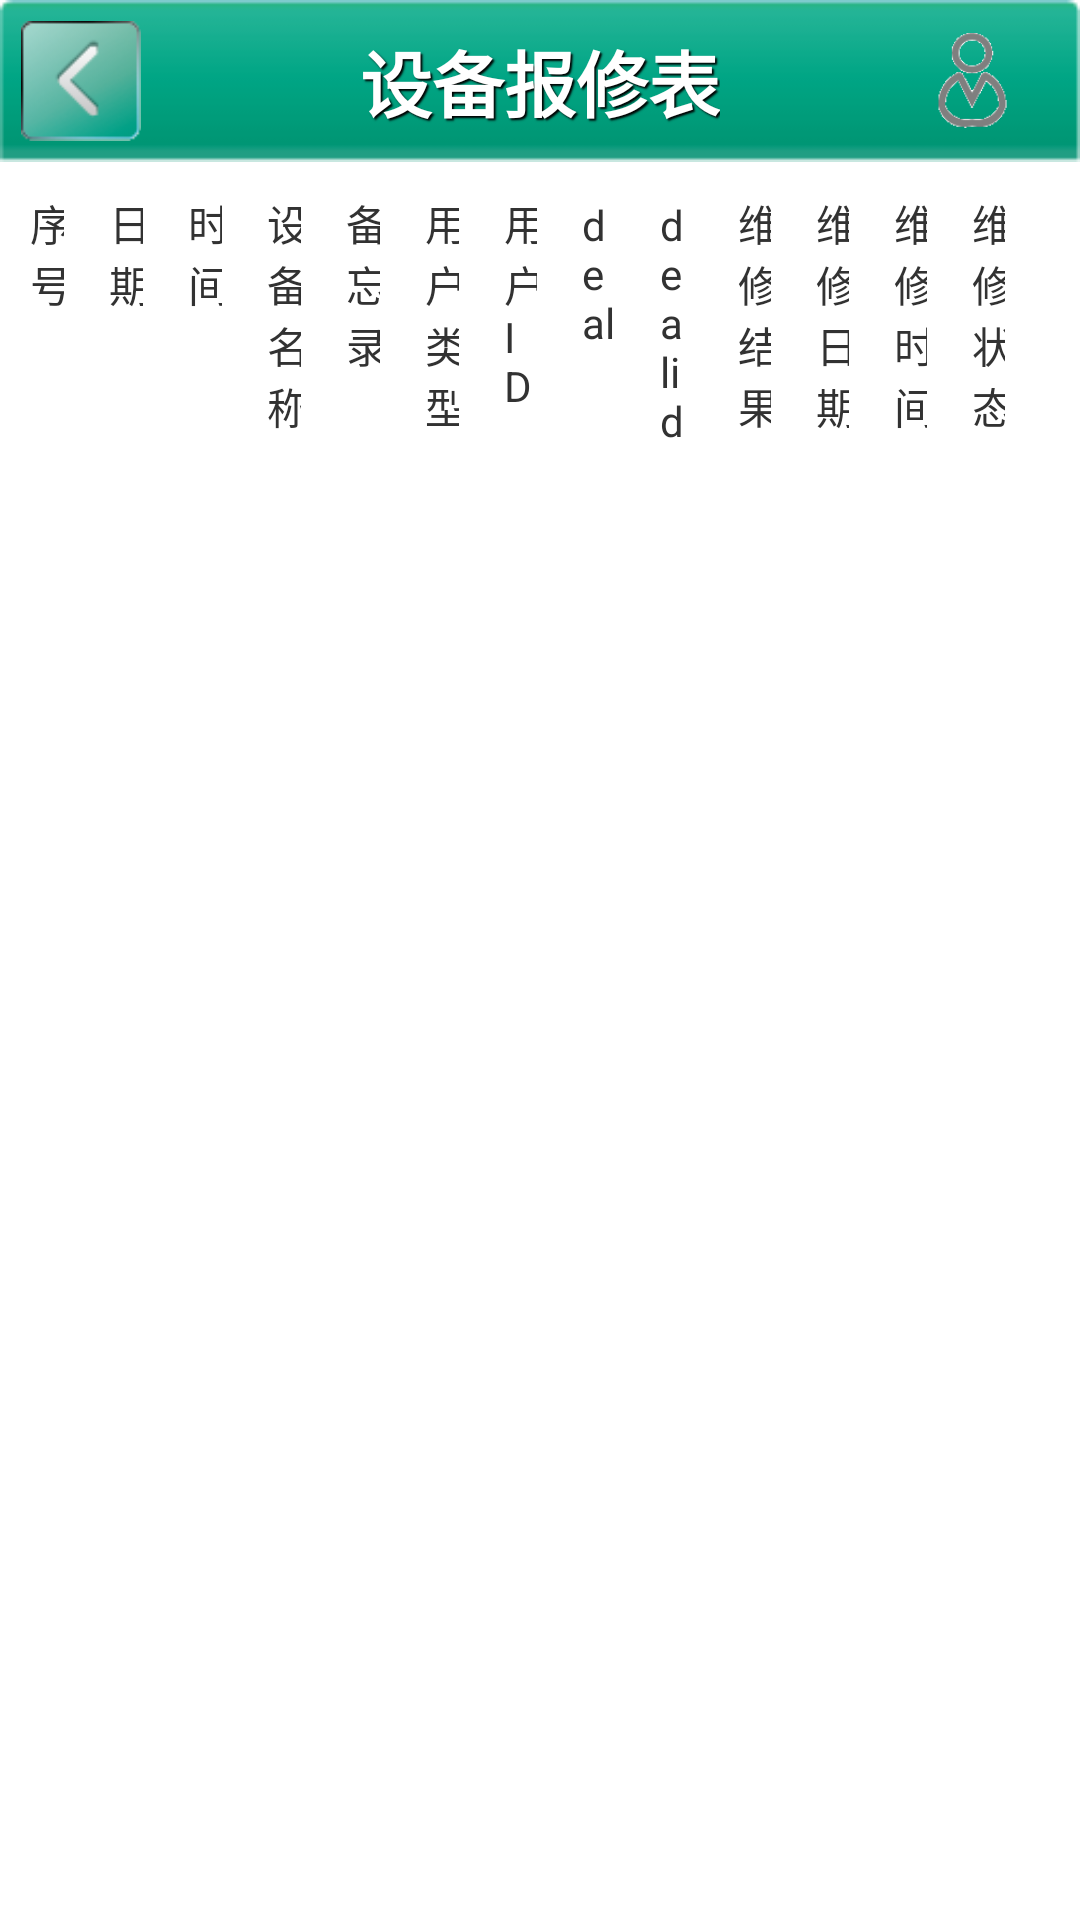

Named icons in this screenshot (1080 x 1920) and their bounding boxes, BBox(x1, y1, x2, y2):
back: BBox(21, 21, 141, 141)
user: BBox(924, 33, 1020, 128)
